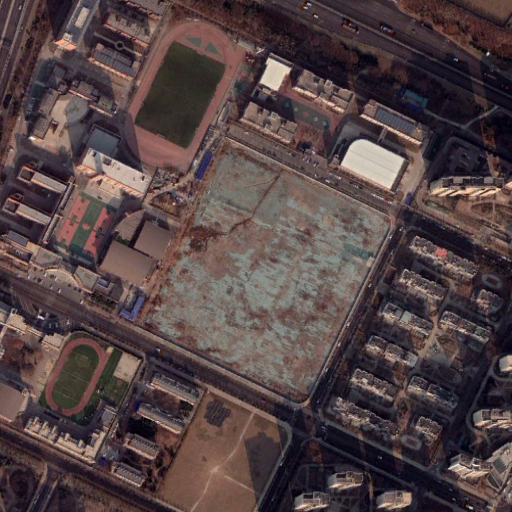cw: (141, 139, 389, 401)
